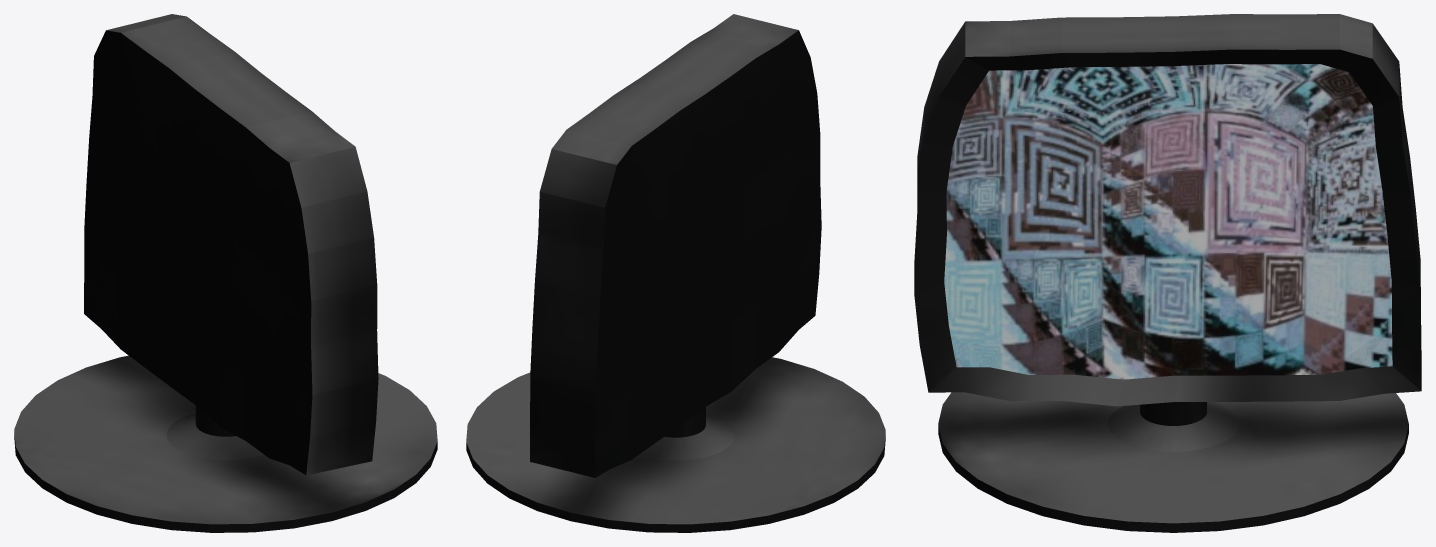
Rendered from moniter.dae.
The picture shows the model from 3 angles, left to right: view 1: azimuth 30°, elevation 25°; view 2: azimuth 150°, elevation 25°; view 3: azimuth 270°, elevation 25°; orthographic projection. The views are drawn at different scales.
Parts seen in each view (by area): view 1: bottom; view 2: bottom; view 3: bottom.
Part boxes in pixels (x1=…): bottom: x1=14, y1=14, x2=437, y2=532; bottom: x1=466, y1=14, x2=885, y2=532; bottom: x1=914, y1=14, x2=1421, y2=532.
Bounding box in the file's own units: 0.2112 × 0.2275 × 0.1997.
1 material, 1 textured.
